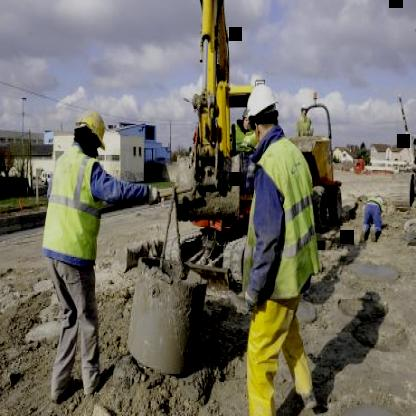helmet: (247, 83, 279, 140), (76, 108, 106, 148)
